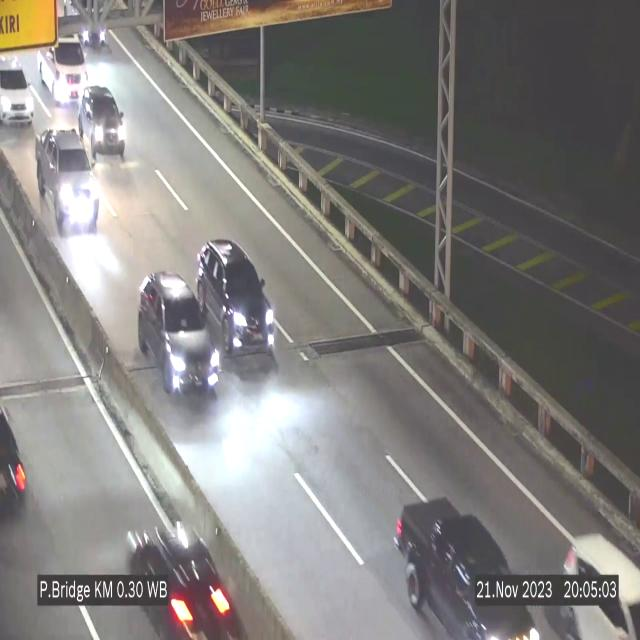Car: (194, 237, 280, 363), (138, 273, 220, 395), (33, 122, 101, 236), (75, 86, 129, 164)
